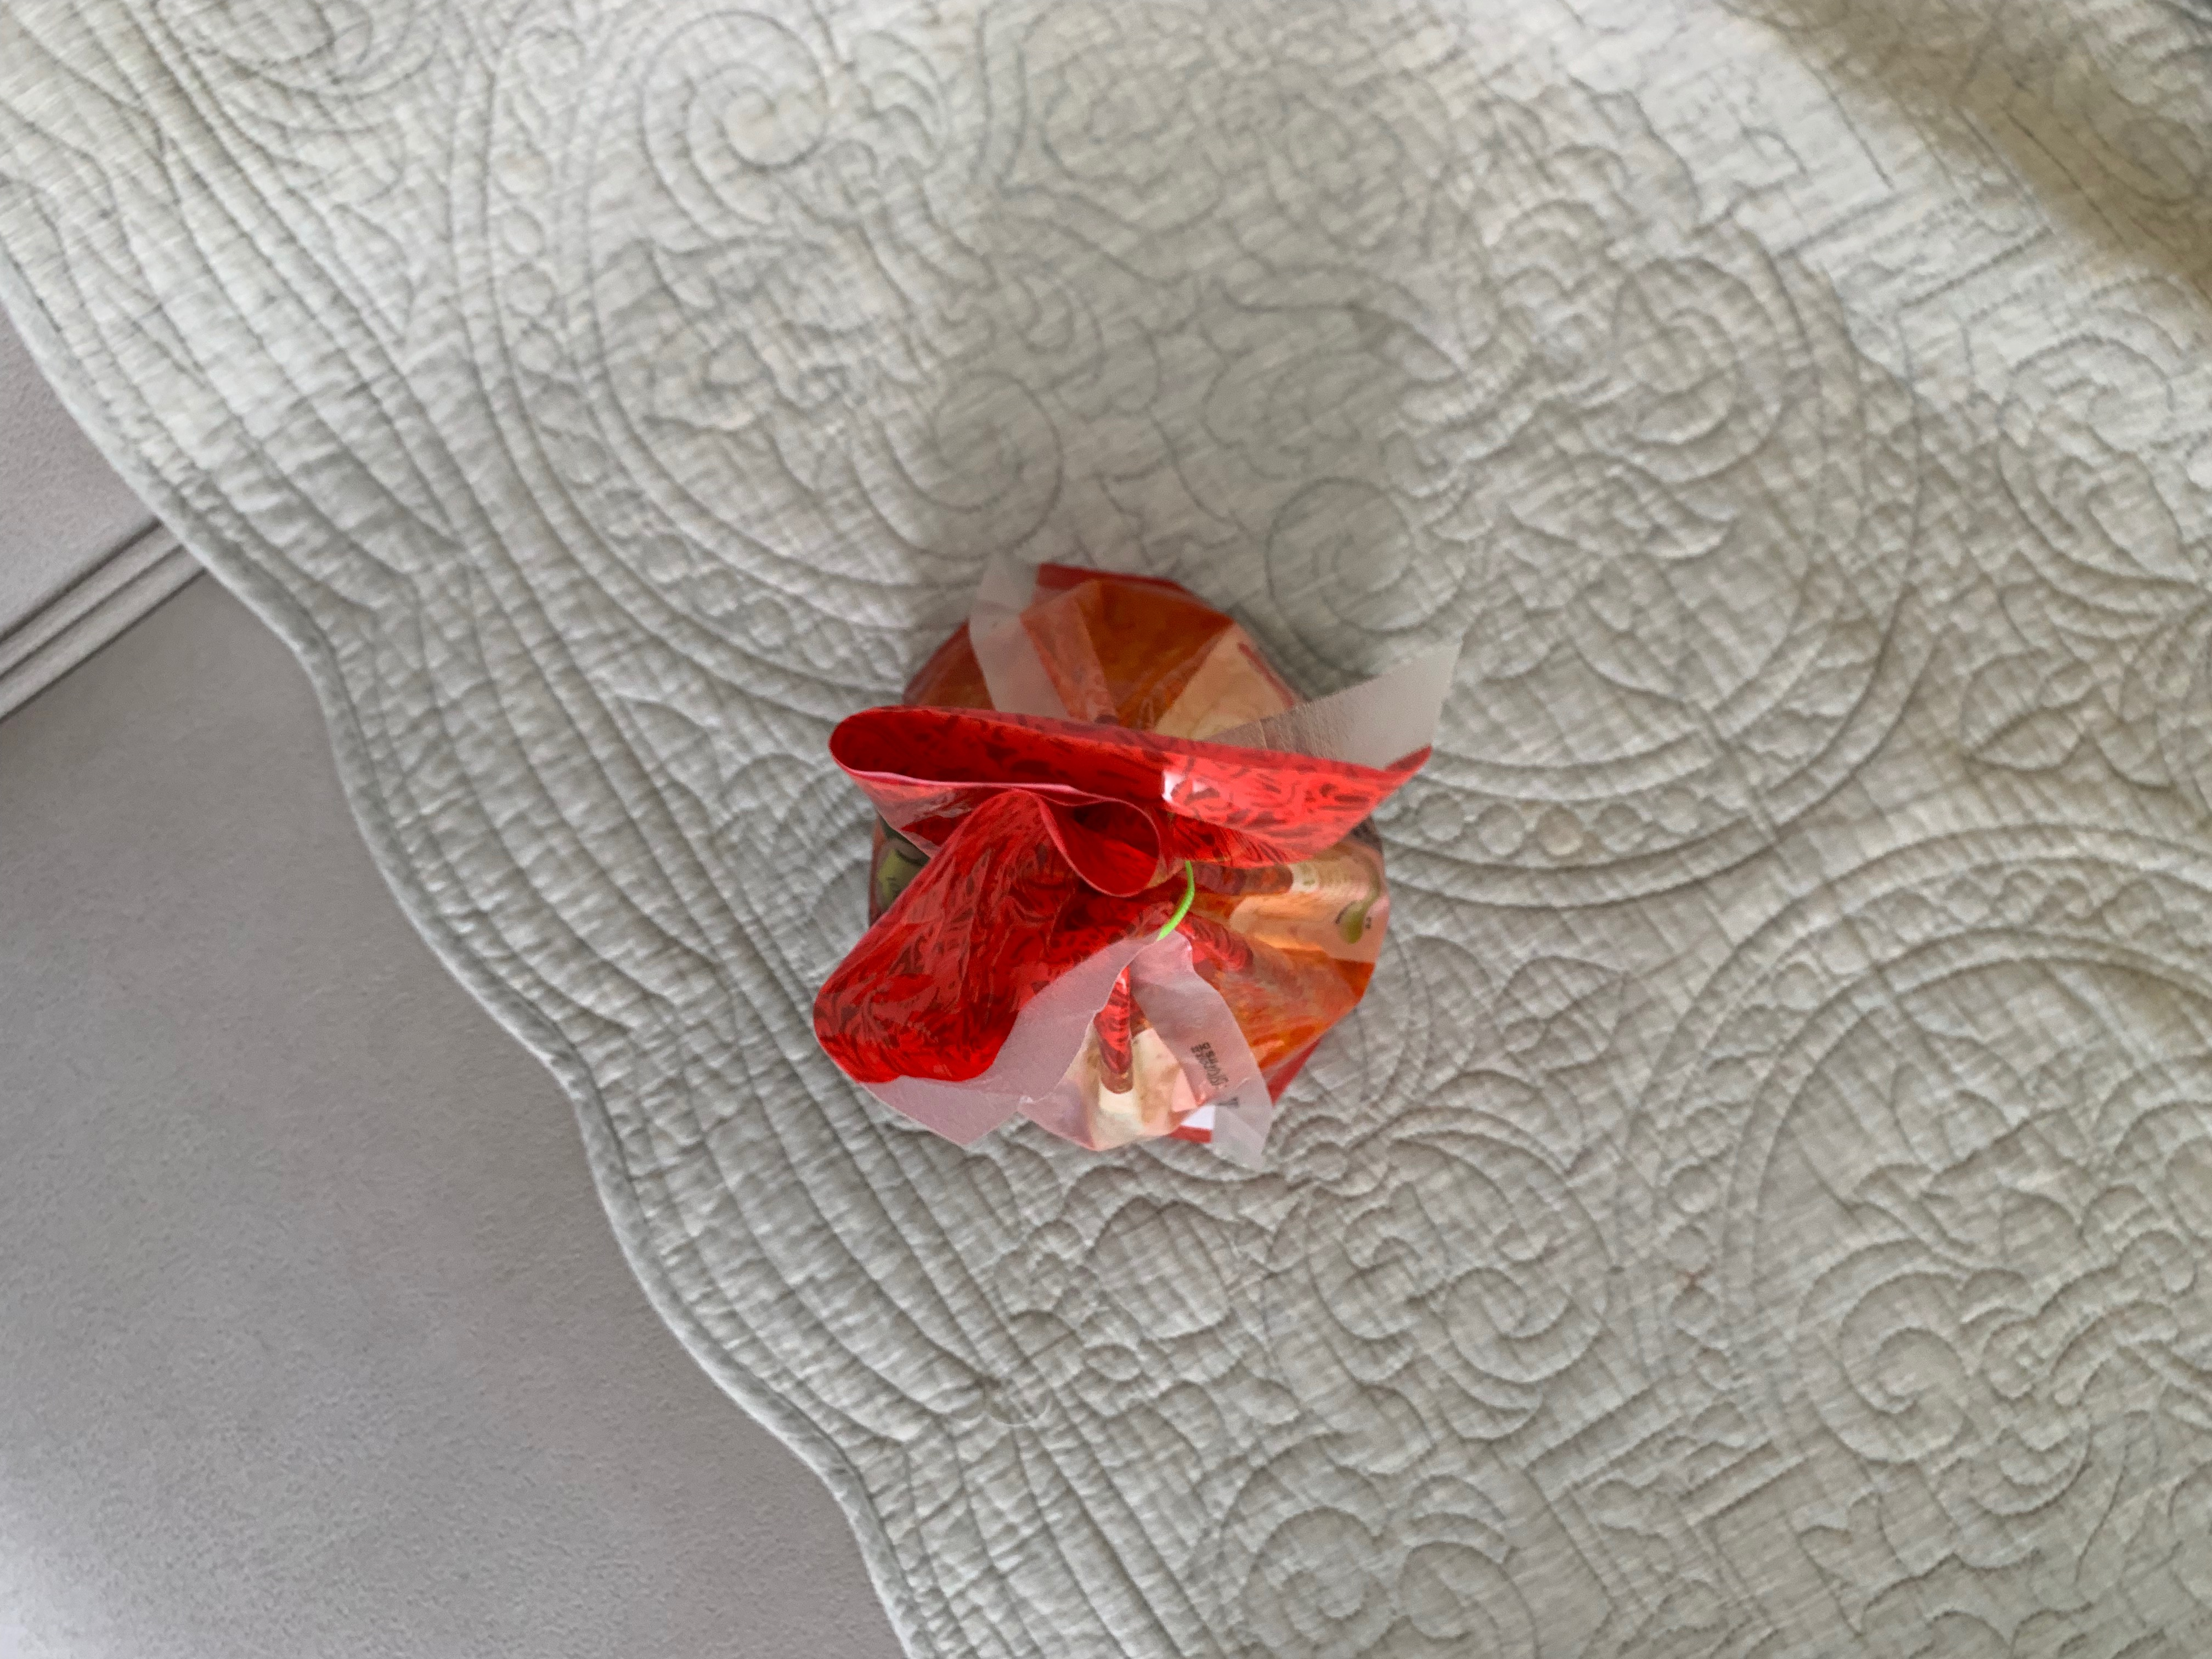kimchi: (817, 561, 1392, 1127)
